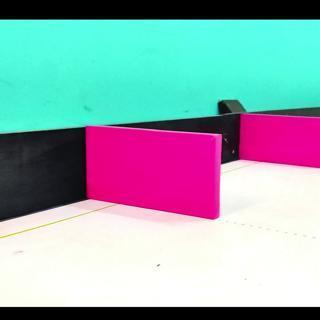xparking: (93, 138, 215, 216), (246, 121, 314, 163)
